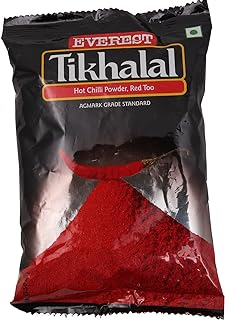Chilli Powder: (2, 11, 225, 316)
